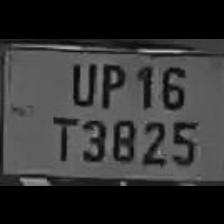1: (127, 58, 155, 108)
2: (137, 116, 167, 166)
3: (75, 112, 105, 162)
5: (167, 114, 197, 164)
6: (155, 58, 186, 108)
8: (107, 112, 135, 162)
P: (93, 56, 126, 106)
T: (48, 108, 78, 162)
U: (64, 57, 96, 105)
